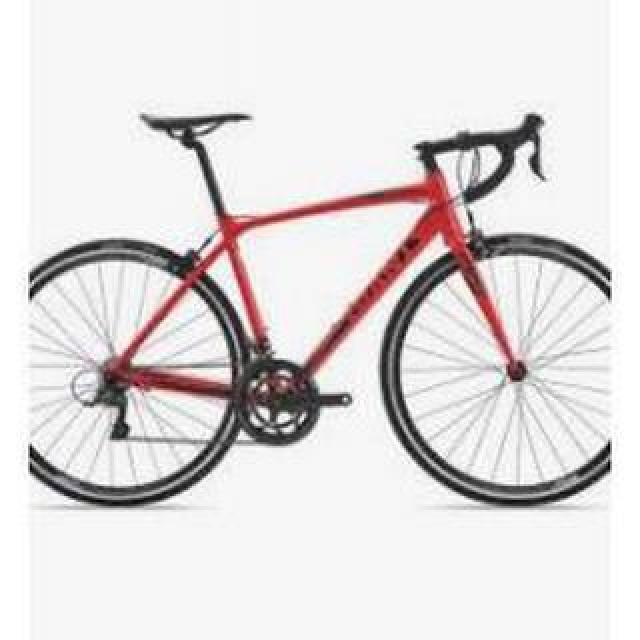Person: (24, 101, 608, 507)
